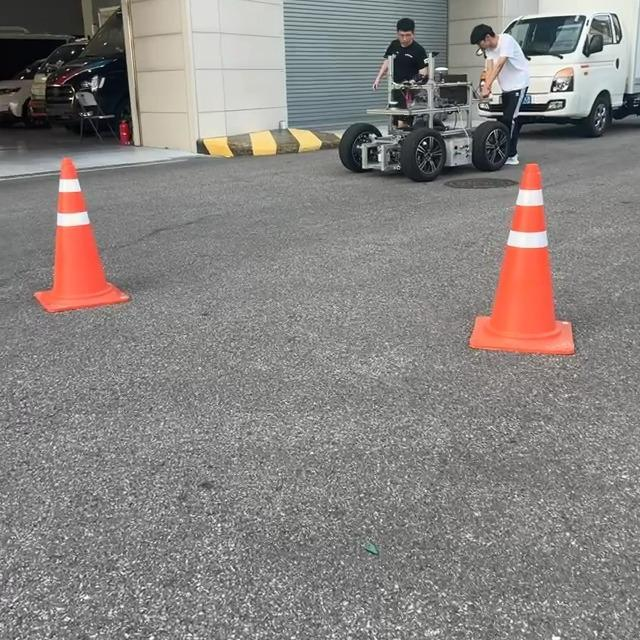fallen_object: (404, 164, 640, 397), (0, 135, 184, 362)
